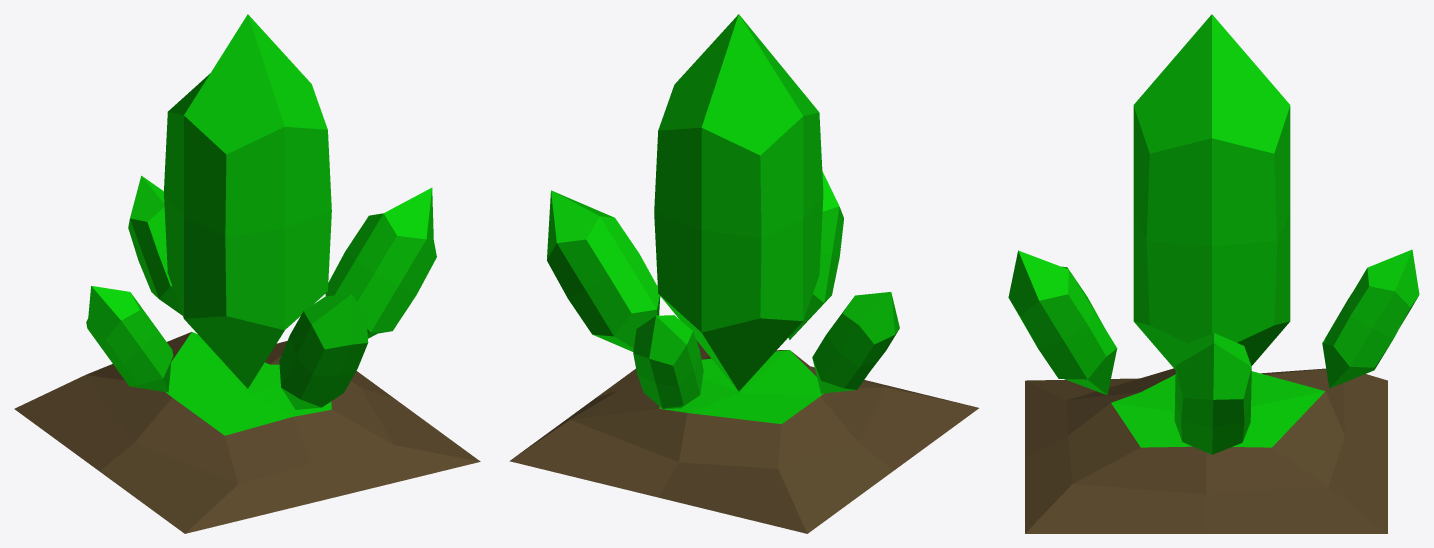
Rendered from cristais.fbx.
3 renders of one model, left to right at view 1: azimuth 30°, elevation 25°; view 2: azimuth 150°, elevation 25°; view 3: azimuth 270°, elevation 25°, orthographic. The views are drawn at different scales.
Parts seen in each view (by area): view 1: Cube.005; view 2: Cube.005; view 3: Cube.005.
Boxes of the visible parts, x1,y1,x2,y2 form: Cube.005: (14, 14, 480, 533); Cube.005: (509, 14, 978, 533); Cube.005: (1008, 14, 1419, 533).
Size of the model in its own units: 539 by 626 by 524.
